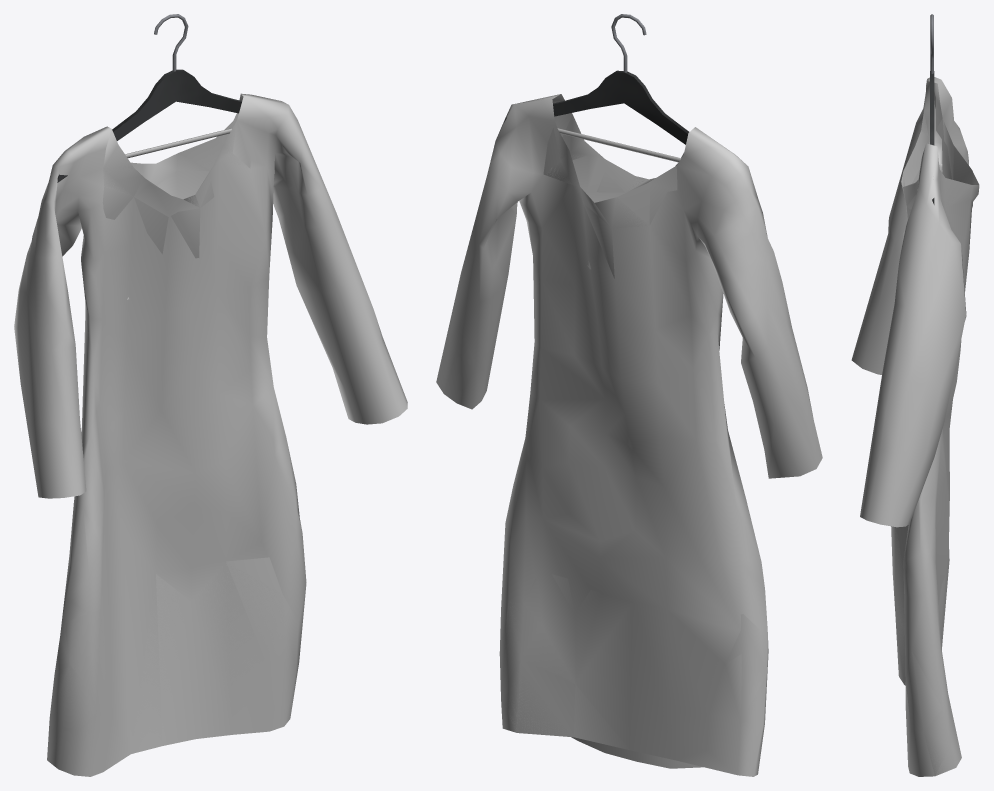
The model's file is dress-5.FBX.
The picture shows the model from 3 angles, left to right: view 1: azimuth 30°, elevation 25°; view 2: azimuth 150°, elevation 25°; view 3: azimuth 270°, elevation 25°; orthographic projection. The views are drawn at different scales.
Parts seen in each view (by area): view 1: dress-5_LOD0, _Hanger-3_LOD0; view 2: dress-5_LOD0, _Hanger-3_LOD0; view 3: dress-5_LOD0, _Hanger-3_LOD0.
Part boxes in pixels (<box>): dress-5_LOD0: <box>14,93,407,776</box>; _Hanger-3_LOD0: <box>57,14,242,182</box>; dress-5_LOD0: <box>436,94,822,776</box>; _Hanger-3_LOD0: <box>504,14,688,162</box>; dress-5_LOD0: <box>851,77,979,776</box>; _Hanger-3_LOD0: <box>930,14,934,204</box>.
Size of what is drawn, in the model's own units: 50.66 by 15.66 by 95.95.
